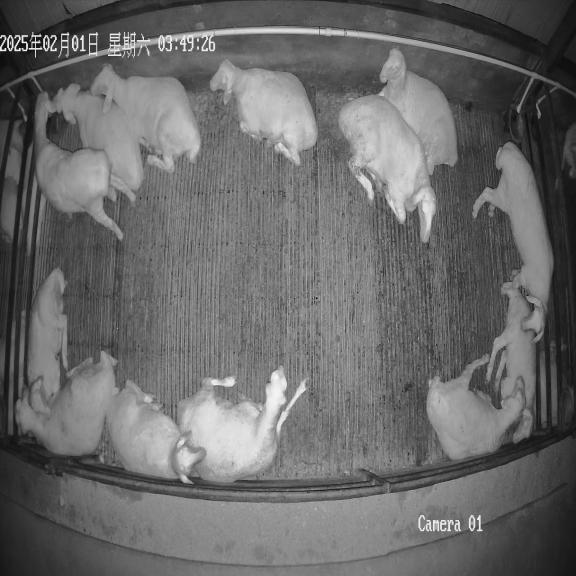drinking: (34, 93, 123, 240)
lying: (178, 365, 306, 482), (338, 95, 436, 242), (90, 64, 201, 172), (210, 60, 318, 165), (50, 84, 144, 202), (15, 351, 117, 456), (426, 354, 526, 460), (106, 381, 206, 484), (378, 48, 457, 176), (486, 284, 536, 442), (27, 269, 68, 414)
stand: (472, 142, 553, 342)
